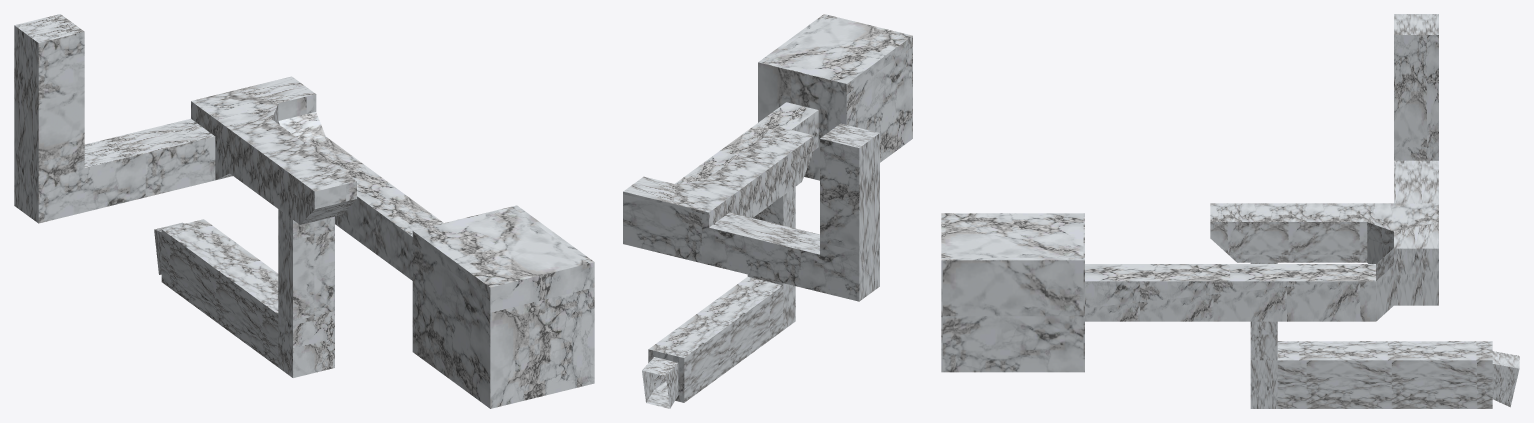
The model's file is SHIKAKU_Stage_1.obj.
3 views of the same model, side by side, from view 1: azimuth 30°, elevation 25°; view 2: azimuth 150°, elevation 25°; view 3: azimuth 270°, elevation 25° (orthographic). The views are drawn at different scales.
Visible parts, largest first — view 1: Phase_1_Cube.001; view 2: Phase_1_Cube.001; view 3: Phase_1_Cube.001.
Part boxes in pixels (bbox=[...]): Phase_1_Cube.001: bbox=[14, 14, 594, 408]; Phase_1_Cube.001: bbox=[623, 14, 912, 408]; Phase_1_Cube.001: bbox=[941, 14, 1519, 408].
Size of the model in its own units: 73.9 by 73.36 by 129.
1 material, 1 textured.
